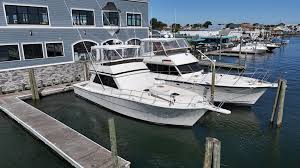boat: (73, 45, 232, 128), (138, 37, 279, 107), (231, 42, 268, 56)
